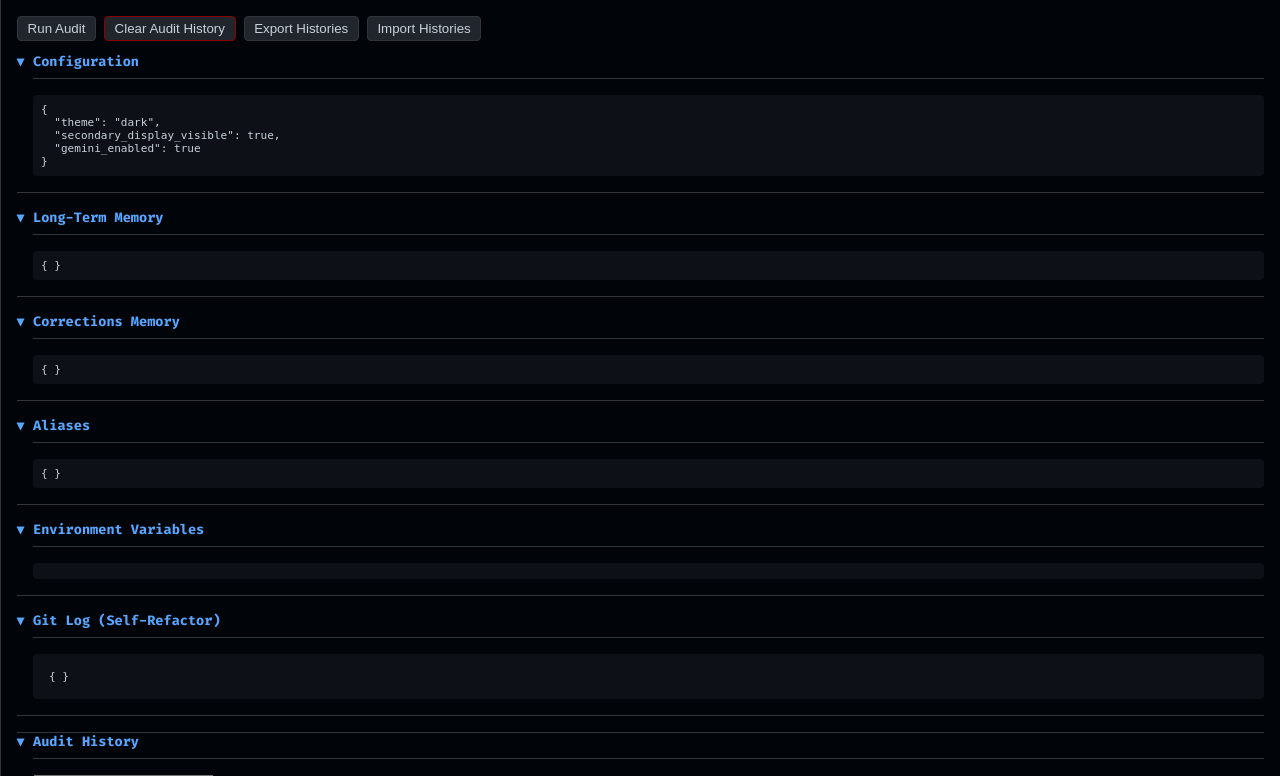
Test case: useMaya audit flow (mocked) › runs audit via UI button and persists an entry
What coordinates should you click on to do the following:
click the button "Run Audit"
I would click on:
 (56, 28)
Its box is left=17, top=16, right=96, bottom=41.
(page scrolled)
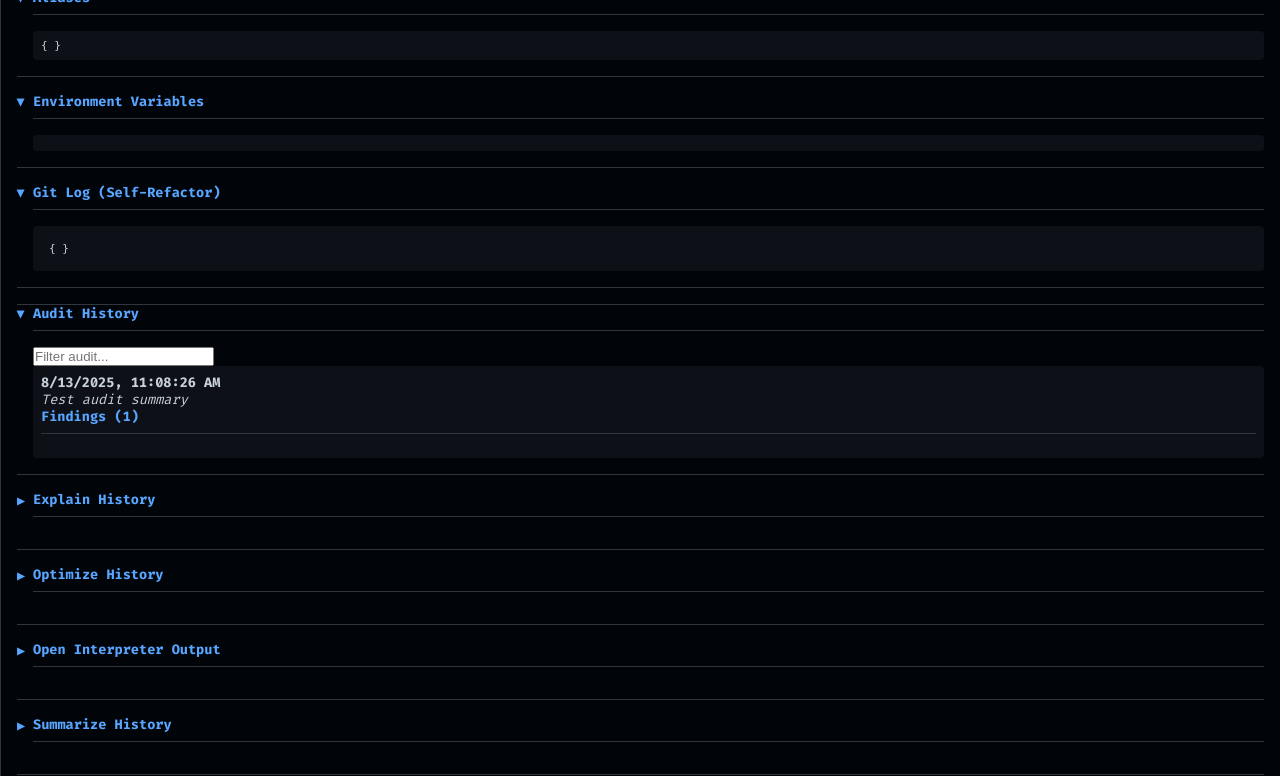
Expected: the text "Test audit summary" is shown, left=41, top=391, right=188, bottom=408
